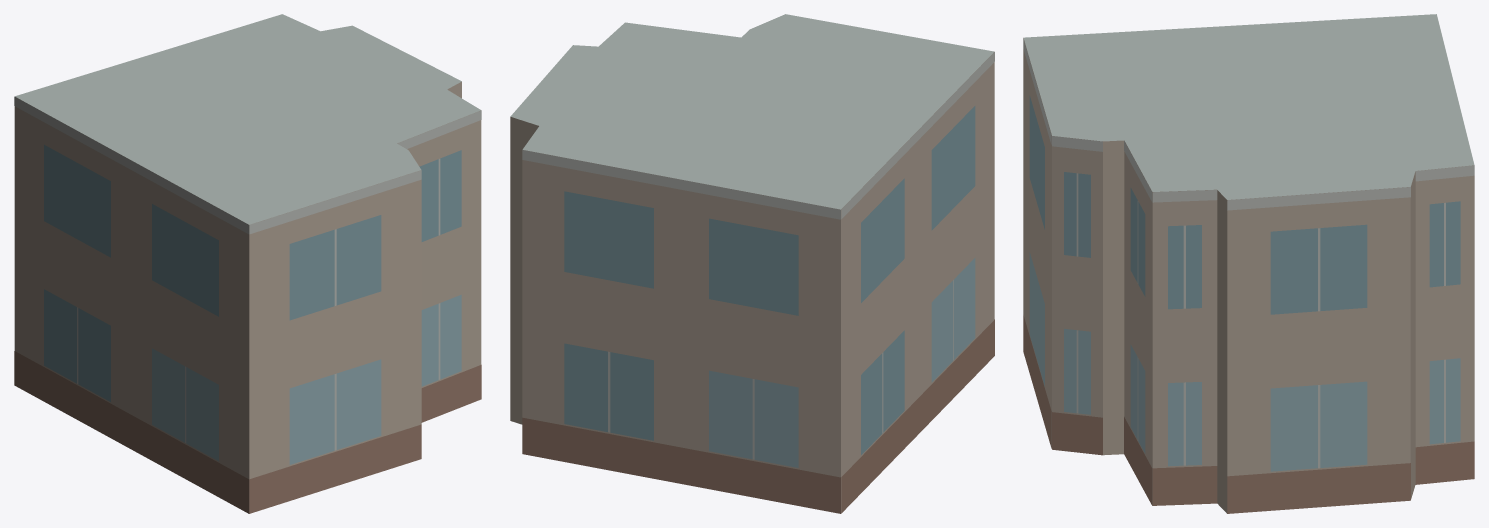
File: survey-upis-32505496.glb
3 renders of one model, left to right at view 1: azimuth 30°, elevation 25°; view 2: azimuth 150°, elevation 25°; view 3: azimuth 270°, elevation 25°, orthographic. The views are drawn at different scales.
Visible parts, largest first — view 1: survey-upis-32505496.tmp; view 2: survey-upis-32505496.tmp; view 3: survey-upis-32505496.tmp.
Part boxes in pixels (<box>): survey-upis-32505496.tmp: <box>14,14,481,513</box>; survey-upis-32505496.tmp: <box>510,14,994,513</box>; survey-upis-32505496.tmp: <box>1023,14,1474,513</box>.
Bounding box in the file's own units: 9.29 × 7.3 × 9.52.
